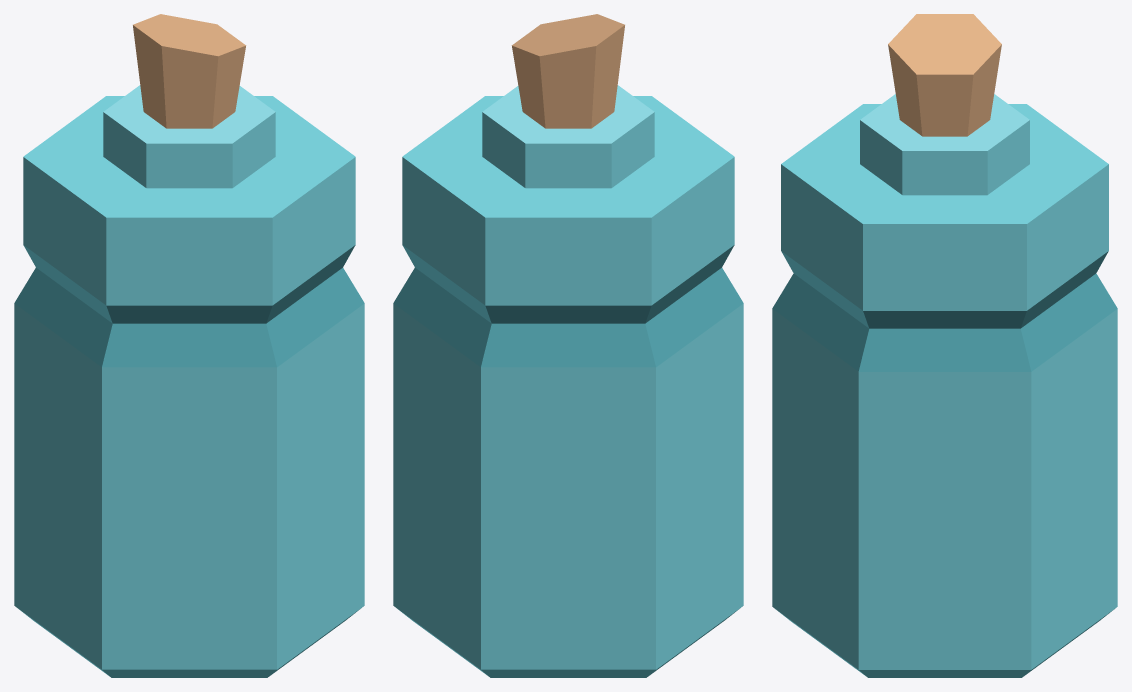
Rendered from Bottle_05.glb.
The picture shows the model from 3 angles, left to right: view 1: azimuth 30°, elevation 25°; view 2: azimuth 150°, elevation 25°; view 3: azimuth 270°, elevation 25°; orthographic projection.
Visible parts, largest first — view 1: Bottle_05; view 2: Bottle_05; view 3: Bottle_05.
Part boxes in pixels (left/top/right/bottom): Bottle_05: left=14, top=14, right=364, bottom=677; Bottle_05: left=393, top=14, right=743, bottom=677; Bottle_05: left=772, top=14, right=1117, bottom=677.
Size of what is drawn, in the model's own units: 0.1828 by 0.396 by 0.2111.
1 material, 1 textured.
